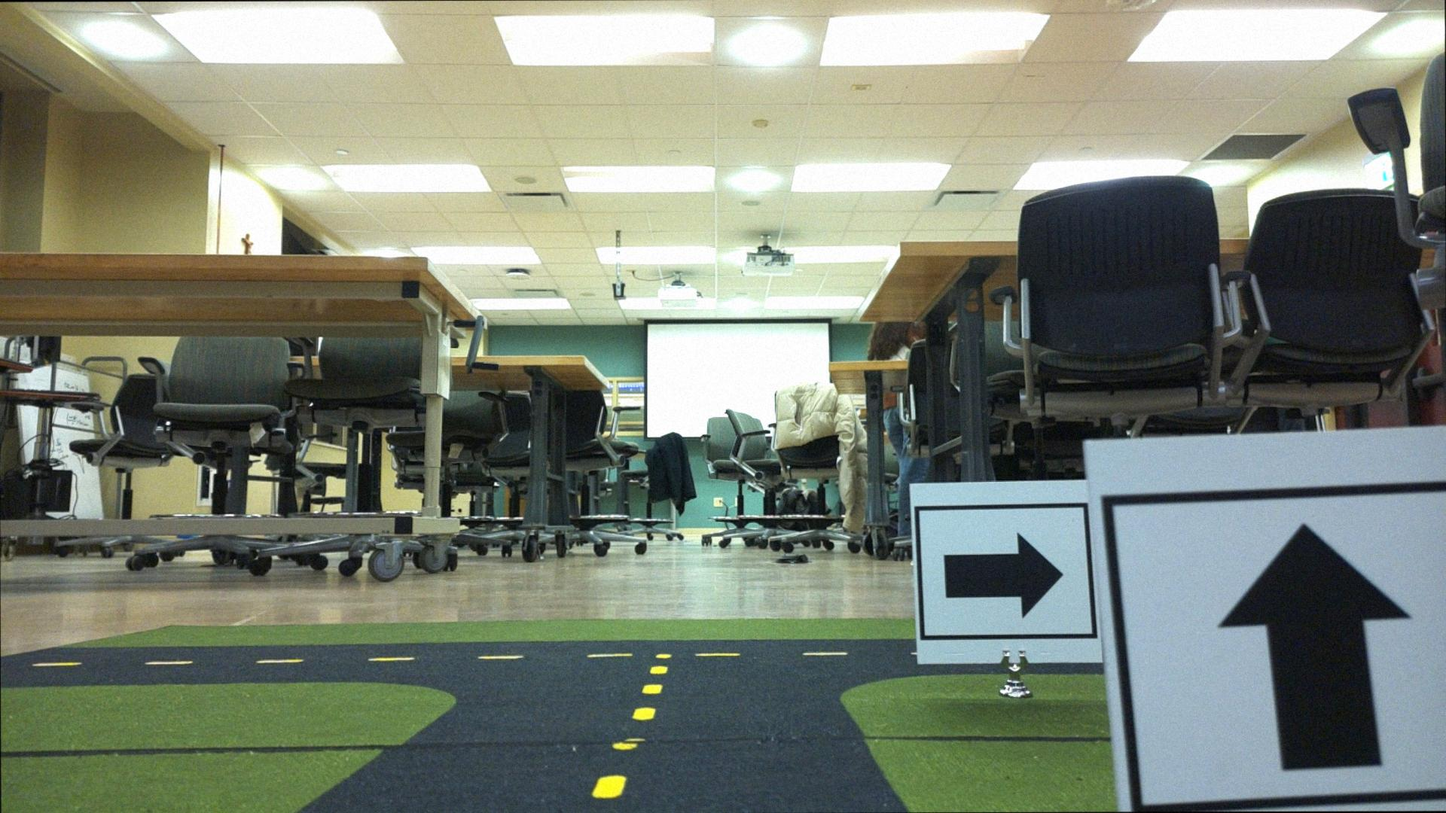gostraight: (1112, 437, 1444, 811)
turnleft: (917, 487, 1088, 667)
yellowline: (595, 665, 667, 799)
